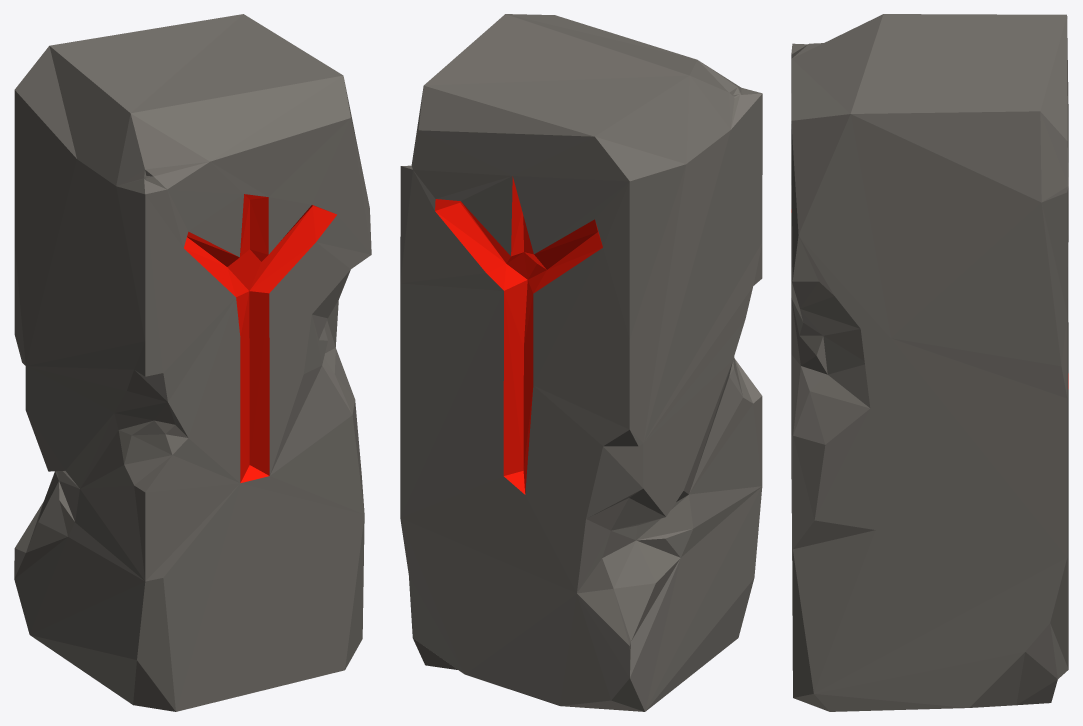
The model's file is SM_Env_Rune_Pillar_02.fbx.
The picture shows the model from 3 angles, left to right: view 1: azimuth 30°, elevation 25°; view 2: azimuth 150°, elevation 25°; view 3: azimuth 270°, elevation 25°; orthographic projection. The views are drawn at different scales.
Visible parts, largest first — view 1: SM_Env_Rune_Pillar_02; view 2: SM_Env_Rune_Pillar_02; view 3: SM_Env_Rune_Pillar_02.
Boxes of the visible parts, left/top/right/bottom form: SM_Env_Rune_Pillar_02: left=14, top=14, right=371, bottom=711; SM_Env_Rune_Pillar_02: left=400, top=14, right=762, bottom=711; SM_Env_Rune_Pillar_02: left=791, top=14, right=1068, bottom=711.
Size of the model in its own units: 1 by 2.38 by 1.
